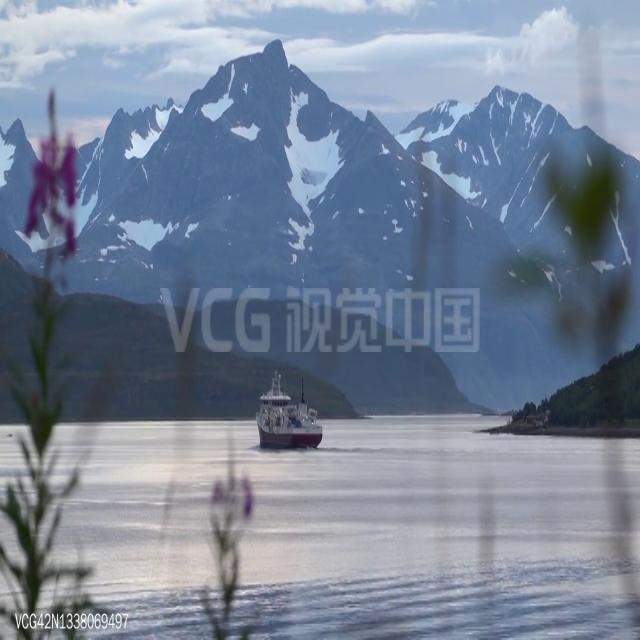houseboat: (253, 381, 320, 452)
